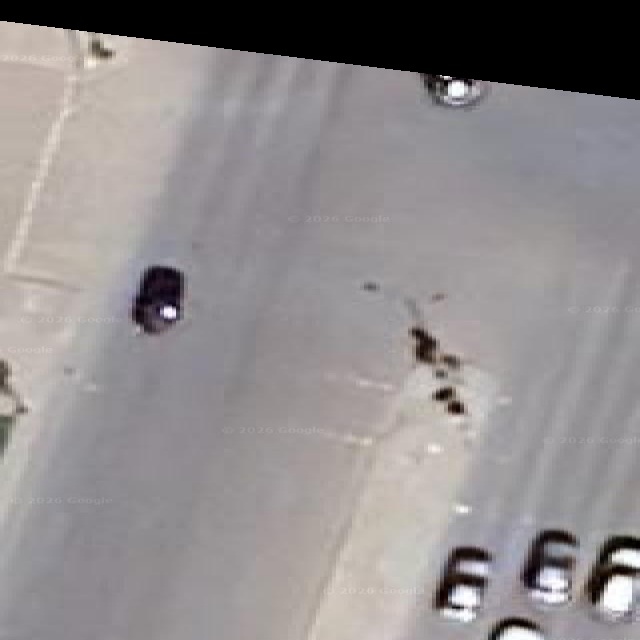car: (587, 535, 639, 620), (433, 547, 491, 620), (522, 529, 576, 604), (132, 267, 183, 332), (420, 72, 487, 105), (488, 617, 544, 639)
